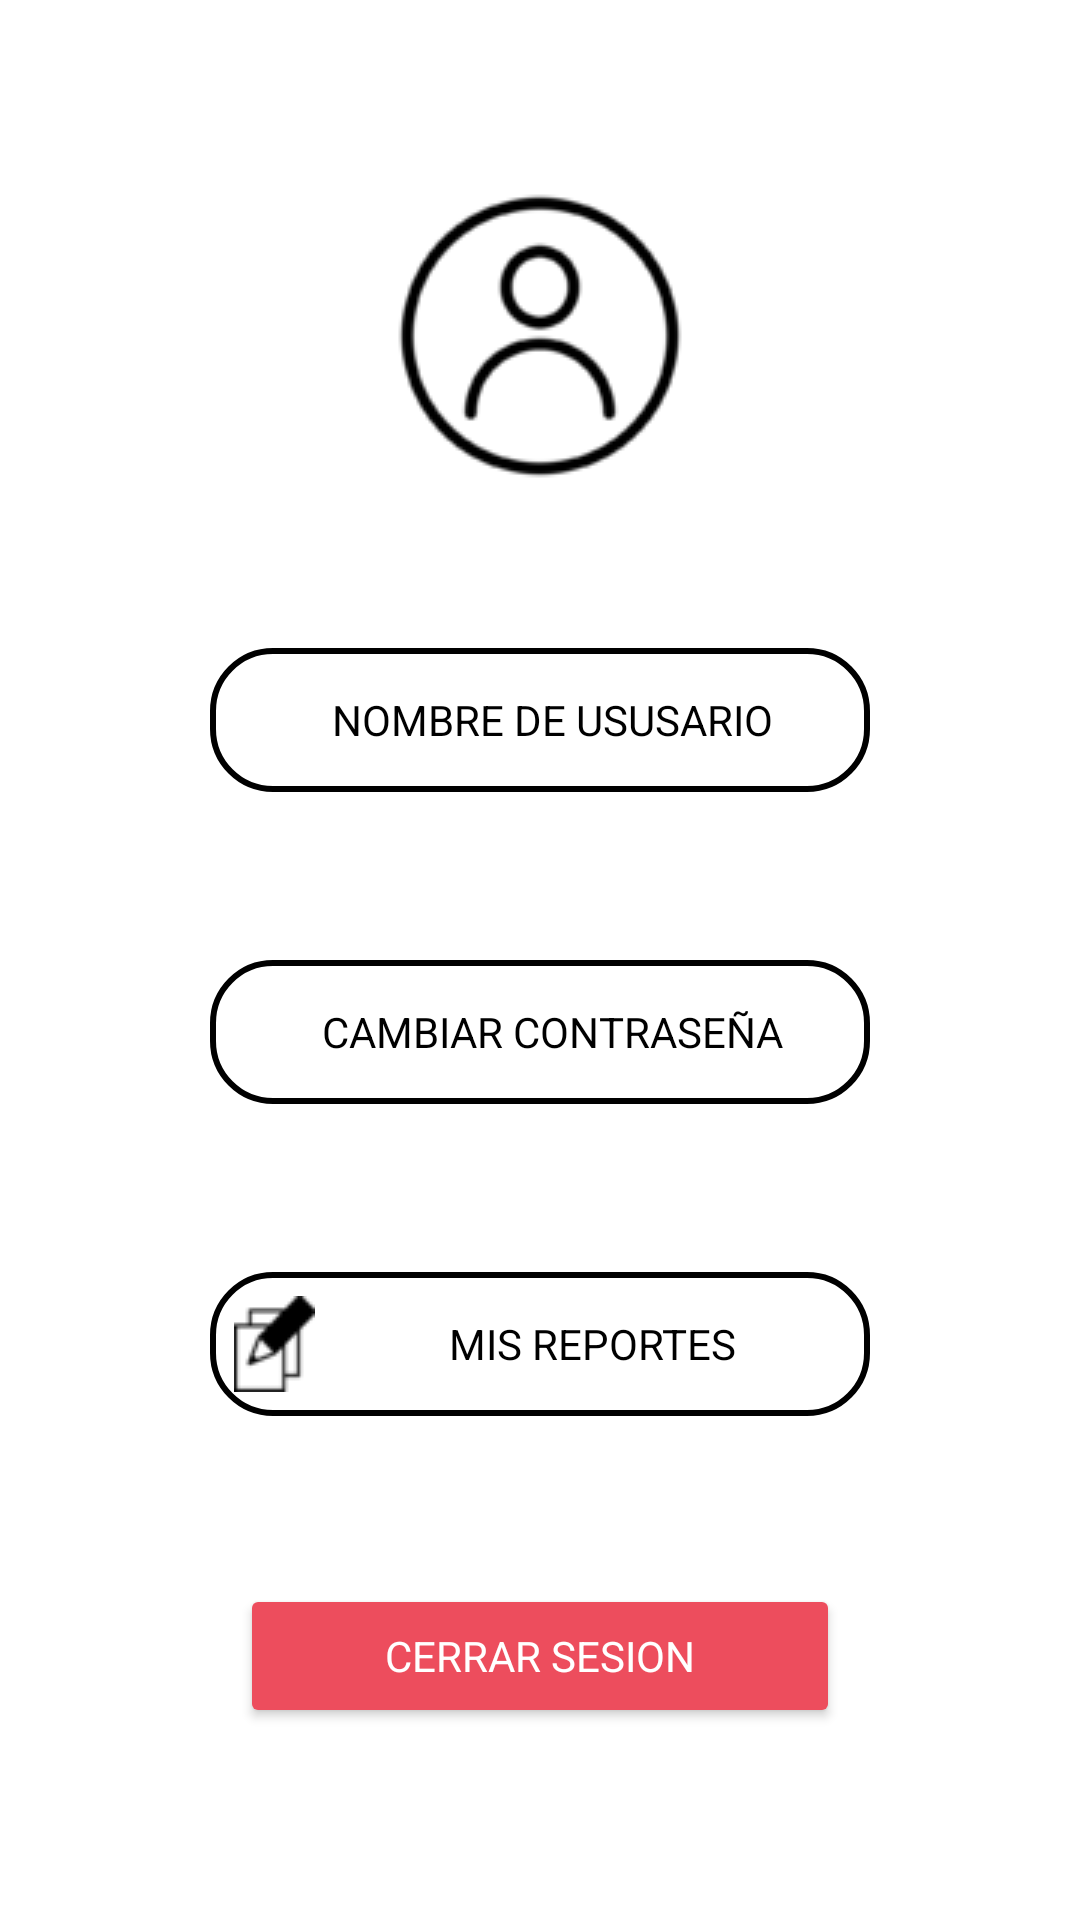

Icon bounding boxes for this 1080×1920 phone screenshot, format bbox=(x1, y1, x2, y2):
person: bbox=(399, 195, 681, 477)
